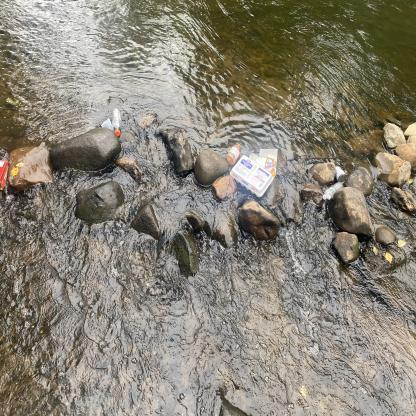trash: (229, 154, 274, 200), (247, 146, 281, 178), (321, 180, 346, 202), (223, 141, 243, 167), (0, 158, 12, 196), (112, 106, 122, 138), (334, 164, 348, 185), (100, 116, 116, 134)
